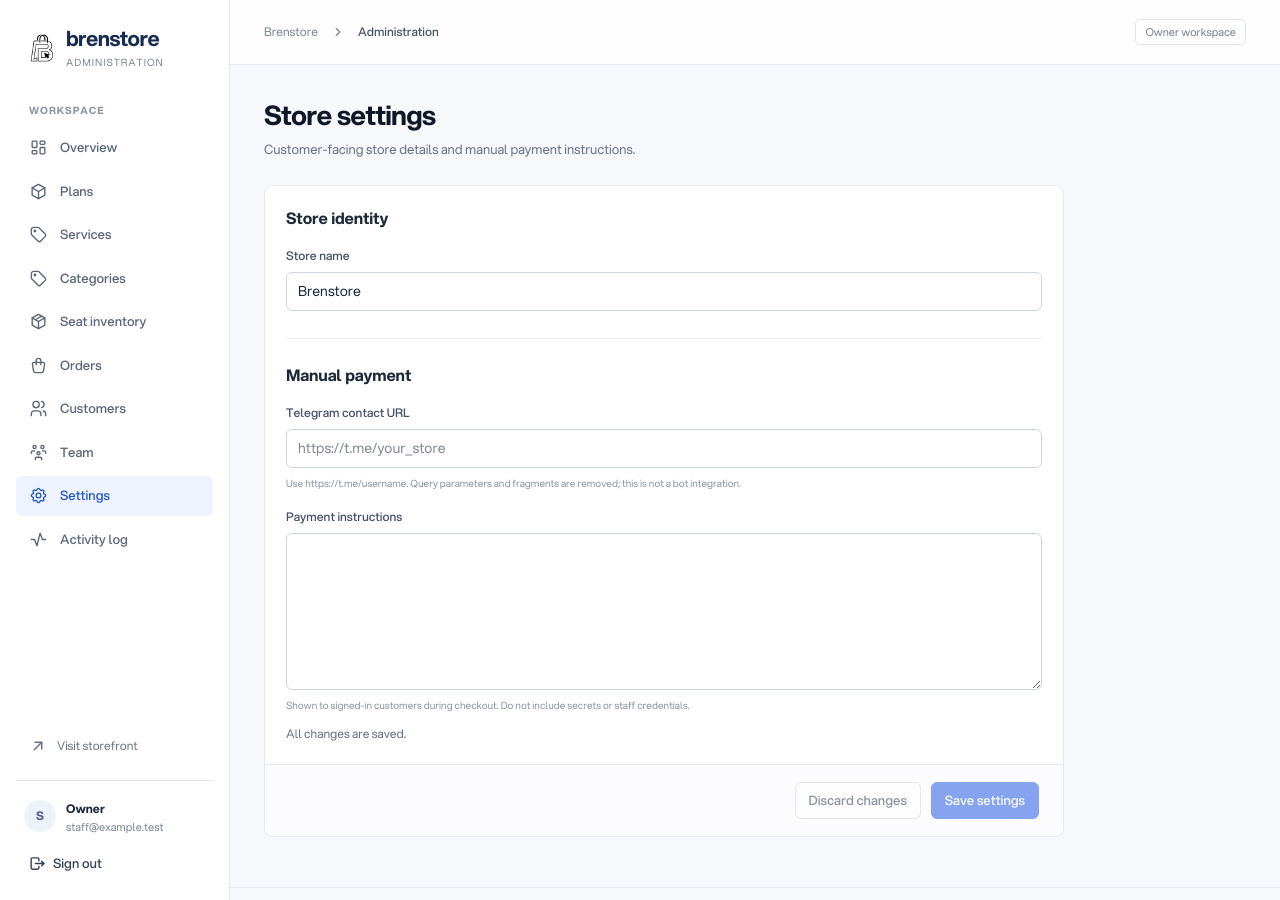
Scenario: server-aligned settings and input boundaries › saves the same canonical Telegram link the storefront can display
This screenshot has width=1280, height=900.
Type "https://t.me/brenstore?start=ignored#ignored" into the field labelled "Telegram contact URL" at coordinates (664, 448), box x1=286 y1=429 x2=1042 y2=468
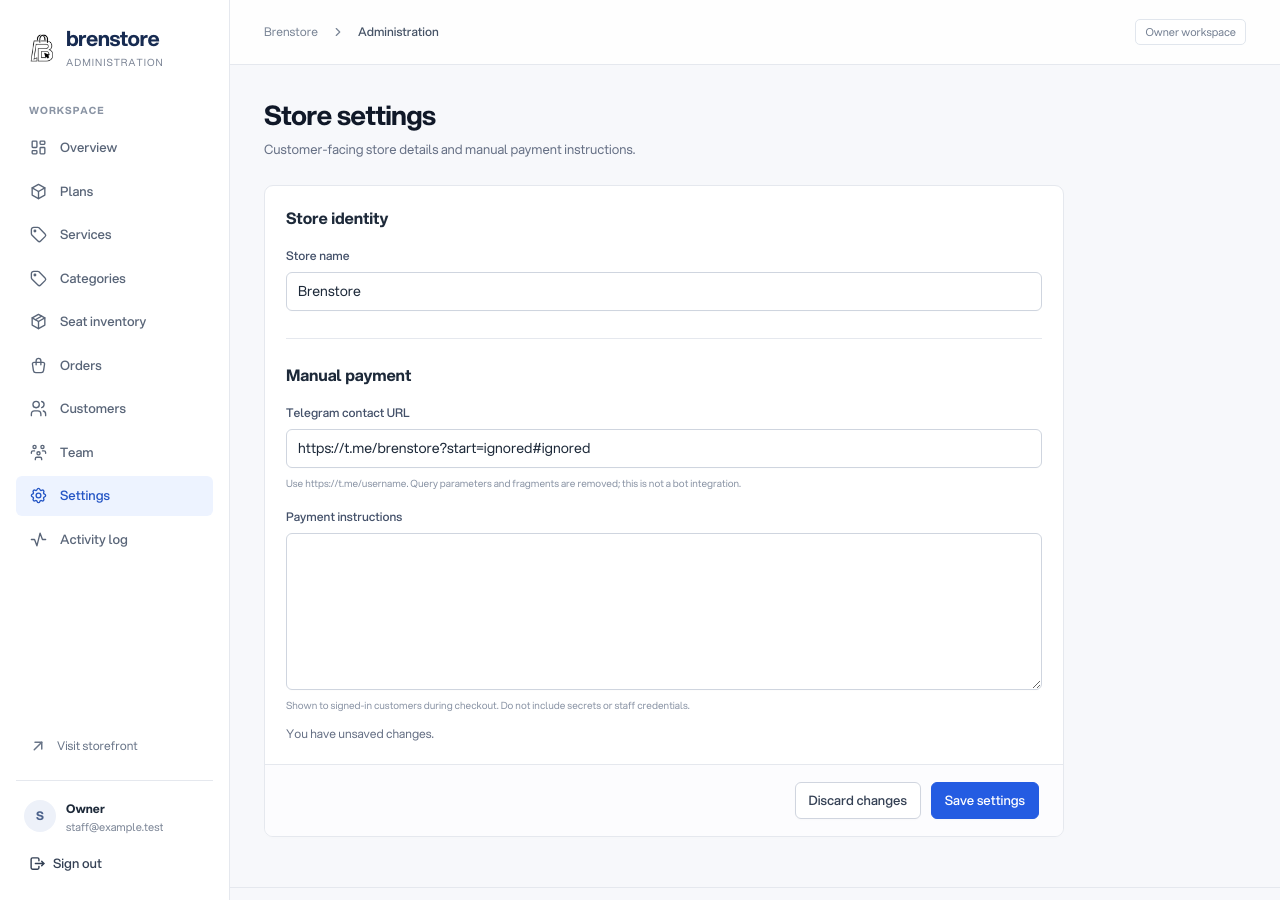
Click the button "Save settings" at coordinates (985, 801), box x1=931 y1=782 x2=1039 y2=819
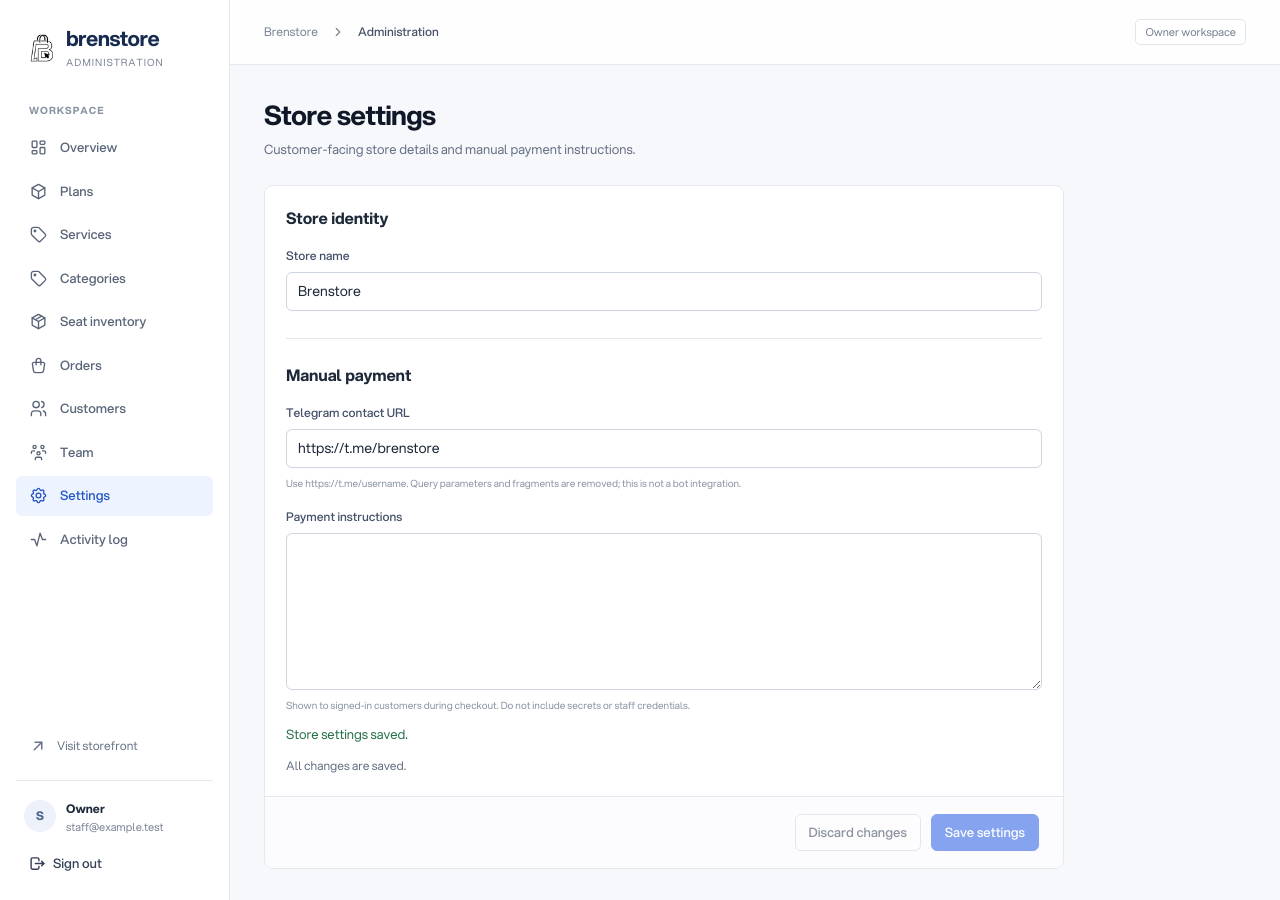
Expected: the text "Store settings saved." is shown, x1=286 y1=725 x2=408 y2=743
